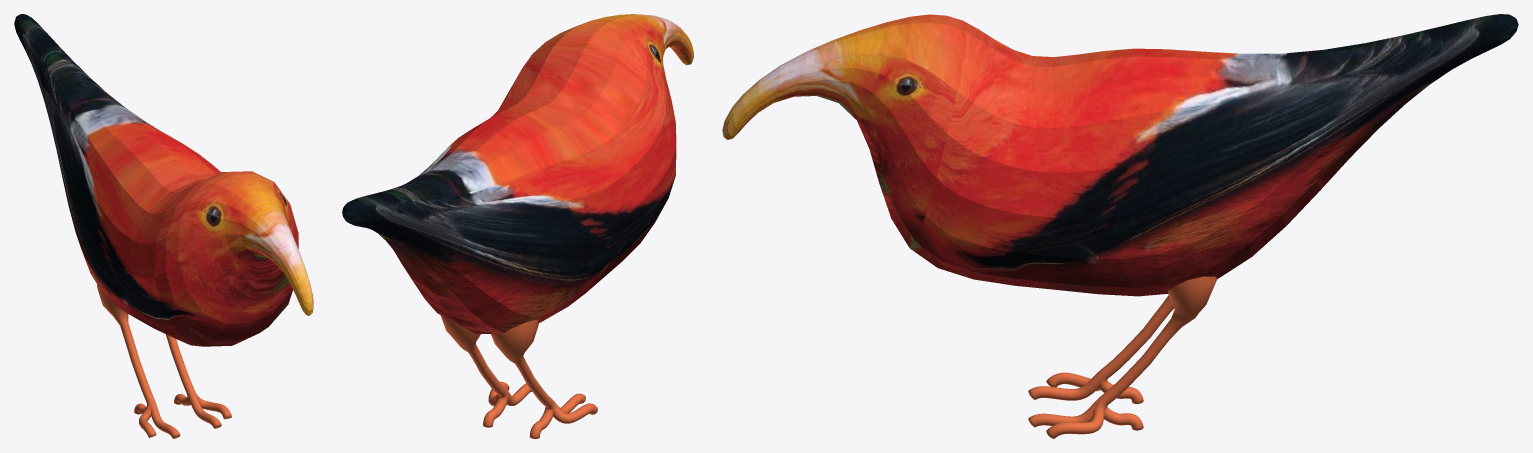
File: honeycreeper.fbx
3 views of the same model, side by side, from view 1: azimuth 30°, elevation 25°; view 2: azimuth 150°, elevation 25°; view 3: azimuth 270°, elevation 25° (orthographic). The views are drawn at different scales.
Parts seen in each view (by area): view 1: Cube, BézierCurve.003; view 2: Cube, BézierCurve.003; view 3: Cube, BézierCurve.003.
Boxes of the visible parts, bbox=[...] form: Cube: bbox=[14, 14, 313, 346]; BézierCurve.003: bbox=[97, 284, 231, 438]; Cube: bbox=[342, 14, 693, 333]; BézierCurve.003: bbox=[440, 315, 597, 438]; Cube: bbox=[722, 14, 1518, 296]; BézierCurve.003: bbox=[1028, 276, 1217, 438].
Bounding box in the file's own units: 95.16 × 192 × 346.
Materials: 2 (1 with a texture image).
